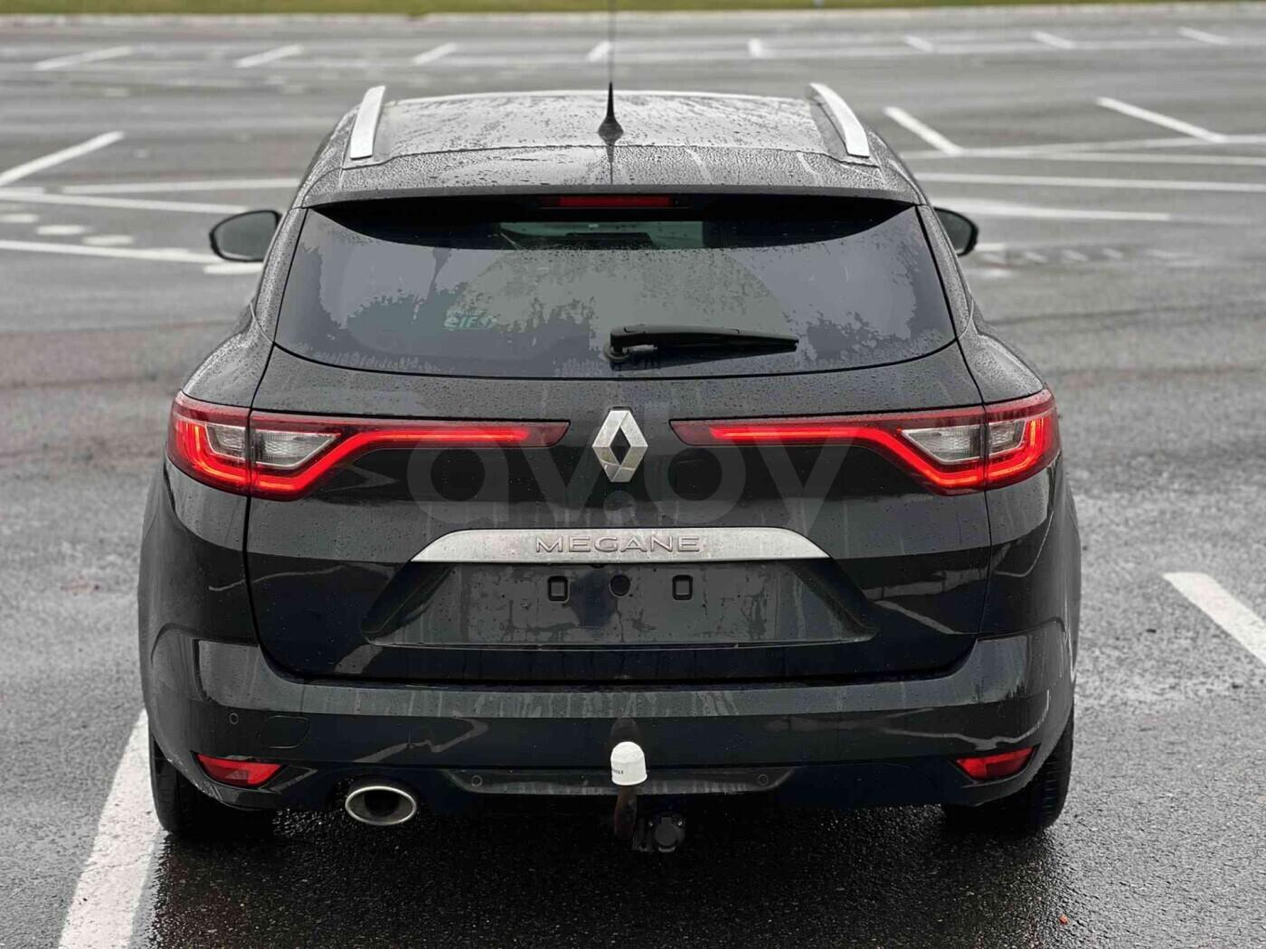Megane_2016-2020: (123, 81, 1095, 860)
